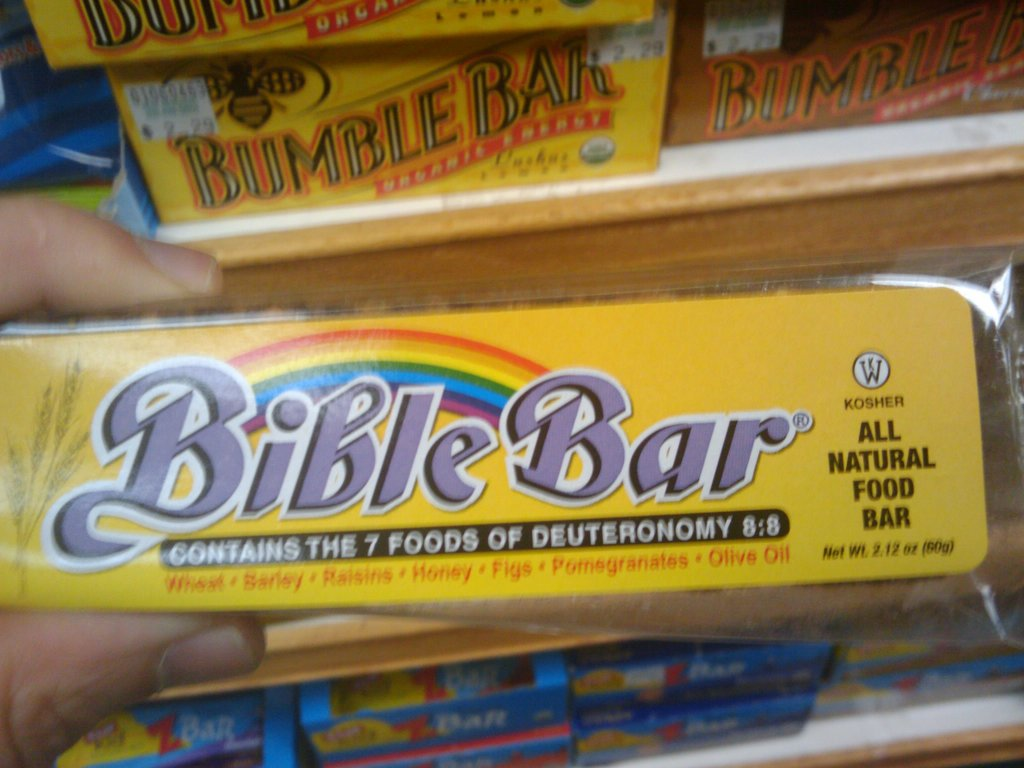person: (0, 187, 225, 337)
